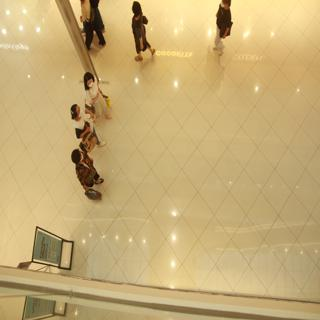person: (120, 1, 171, 66), (61, 99, 110, 159), (80, 69, 123, 126), (68, 148, 111, 204), (70, 1, 113, 56), (206, 1, 240, 51)
